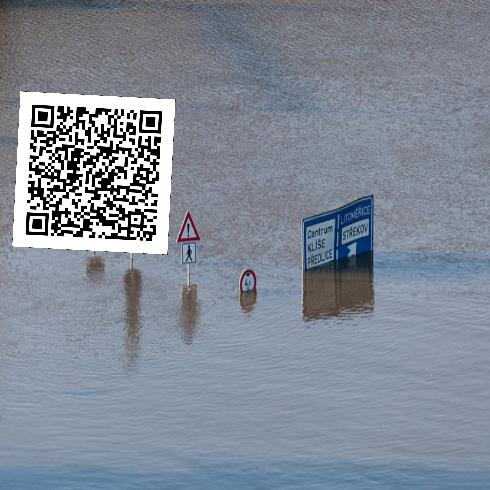qr_code: (12, 91, 175, 254)
